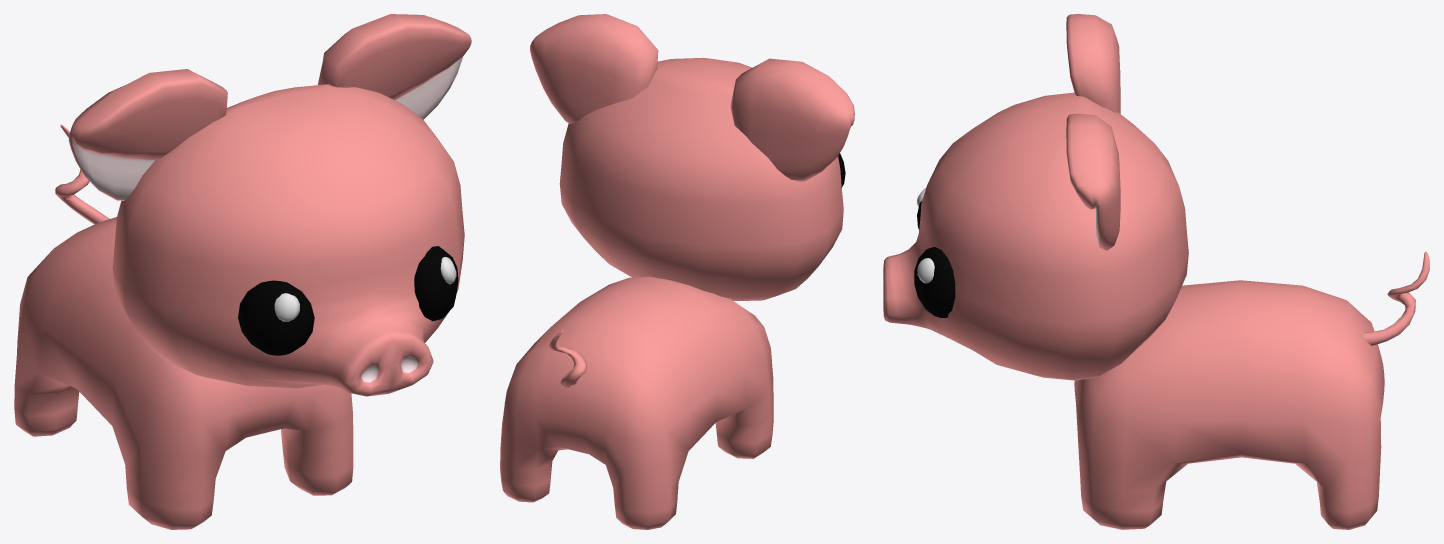
Rendered from pig.fbx.
3 views of the same model, side by side, from view 1: azimuth 30°, elevation 25°; view 2: azimuth 150°, elevation 25°; view 3: azimuth 270°, elevation 25° (orthographic). The views are drawn at different scales.
Visible parts, largest first — view 1: pig_head, pig_body; view 2: pig_head, pig_body; view 3: pig_head, pig_body.
Part boxes in pixels (left/top/right/bottom): pig_head: left=68, top=14, right=471, bottom=396; pig_body: left=14, top=124, right=353, bottom=529; pig_head: left=530, top=14, right=854, bottom=300; pig_body: left=500, top=276, right=773, bottom=529; pig_head: left=883, top=14, right=1188, bottom=380; pig_body: left=1074, top=252, right=1429, bottom=529.
Bounding box in the file's own units: 70.82 × 80.37 × 94.34.
